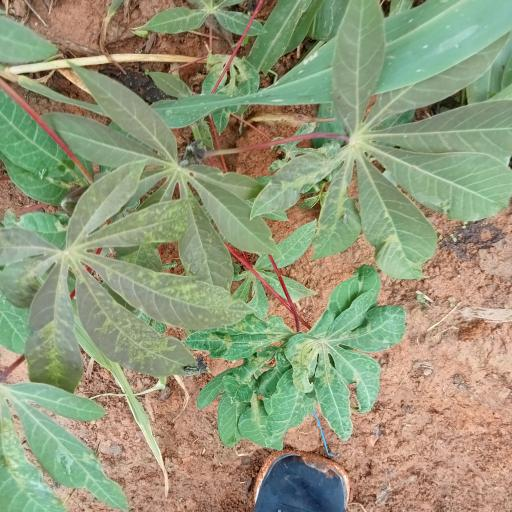Cassava_Mosaic: (261, 2, 512, 273), (0, 161, 246, 377), (286, 320, 403, 439)
